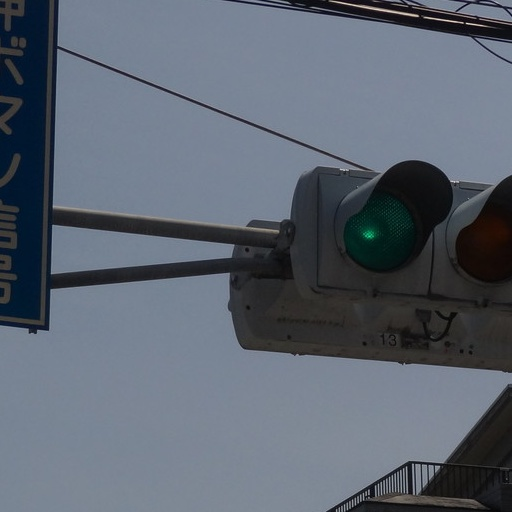Traffic_Signal_Blue: (294, 165, 508, 294)
